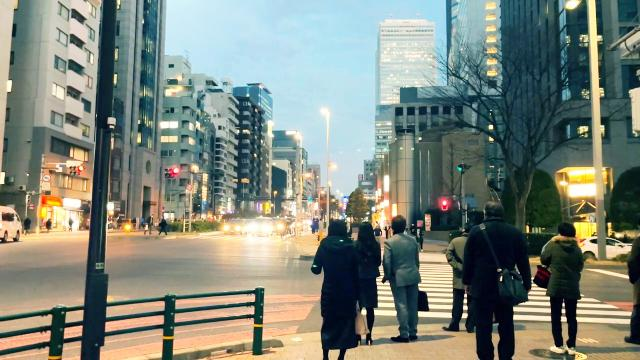berdiri: (464, 196, 530, 360), (312, 215, 366, 360), (534, 220, 584, 354), (382, 204, 423, 344), (444, 220, 476, 332)
